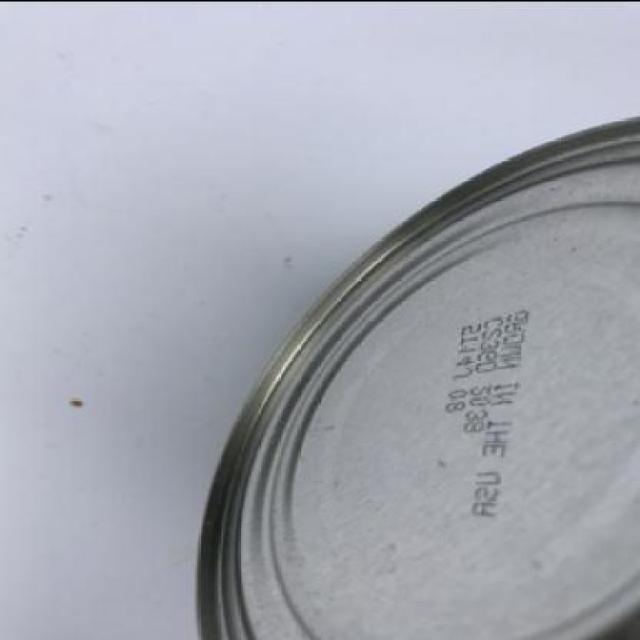METAL: (194, 112, 638, 638)
